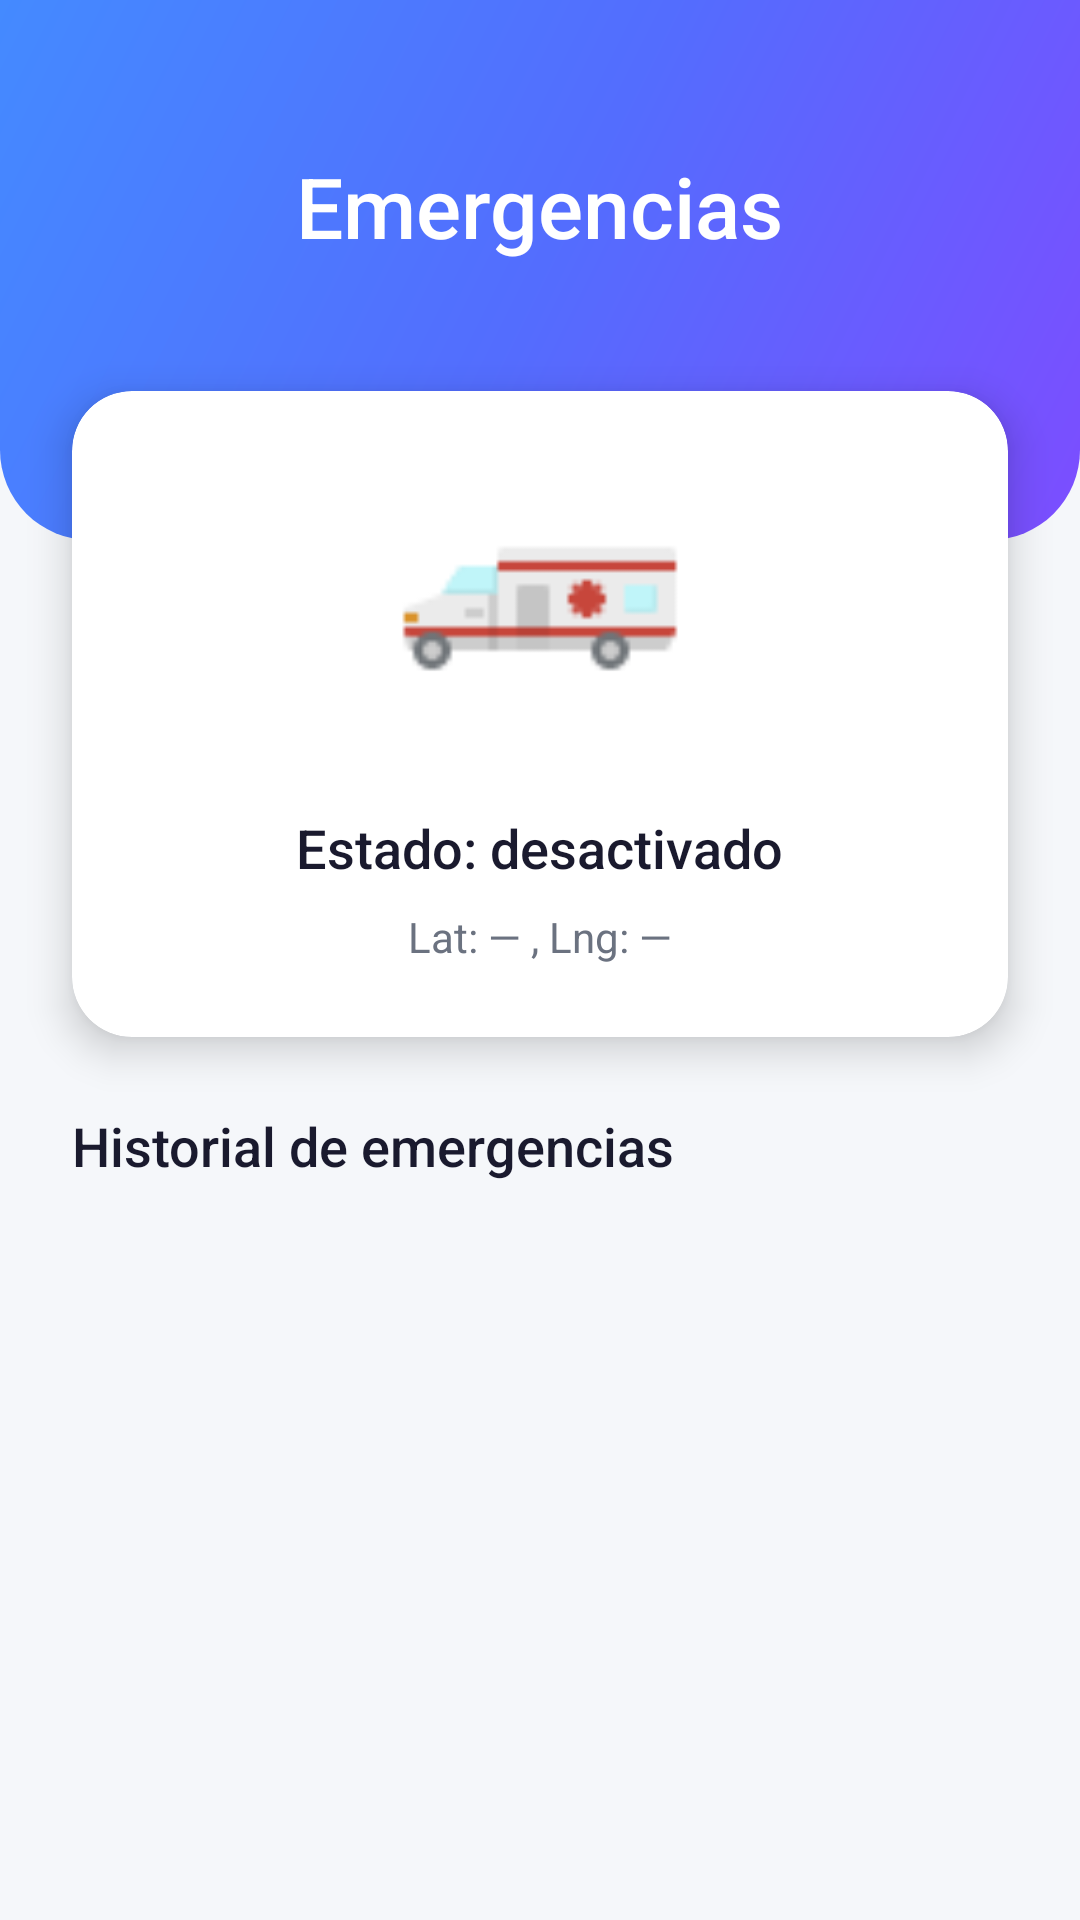

Icons on this 1080 x 1920 Android screen, each with its box as (x1, y1, x2, y2):
iconno ambulancia: (402, 559, 678, 671)
